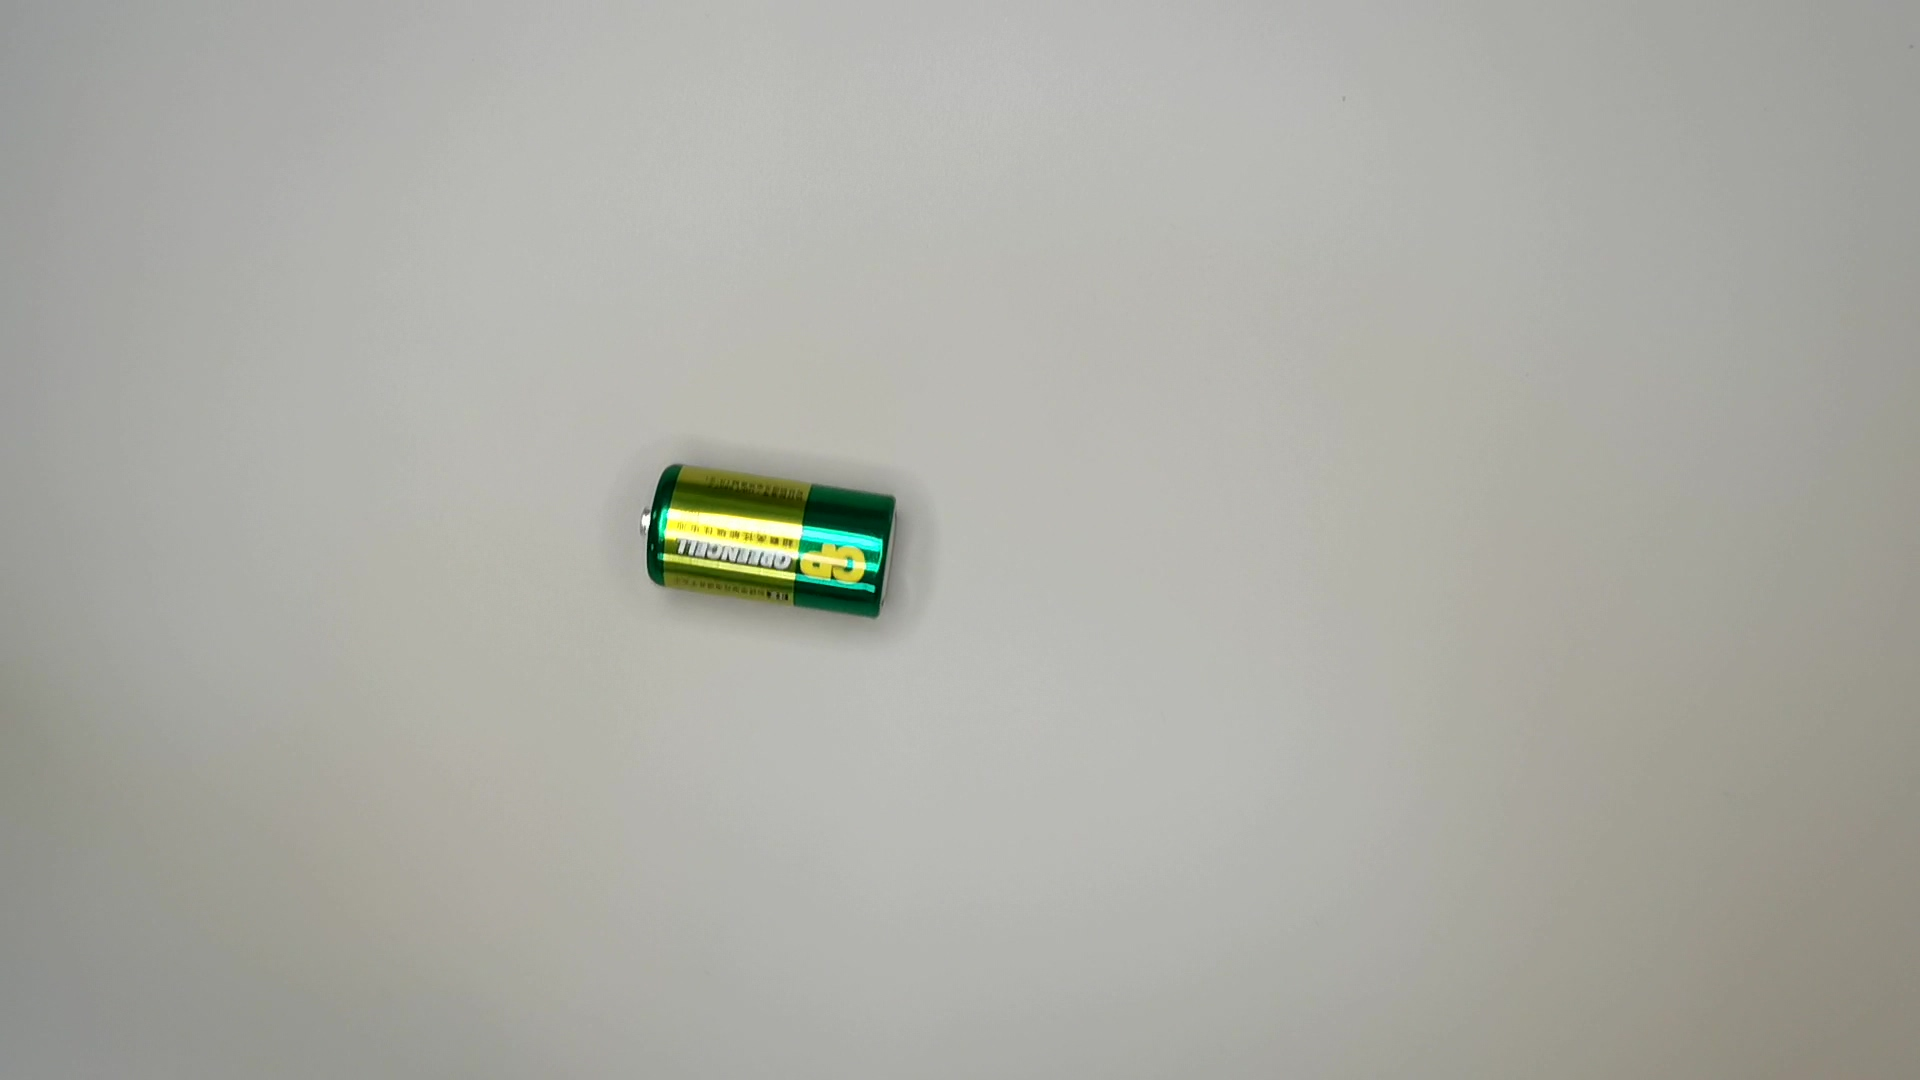battery: (634, 458, 905, 630)
